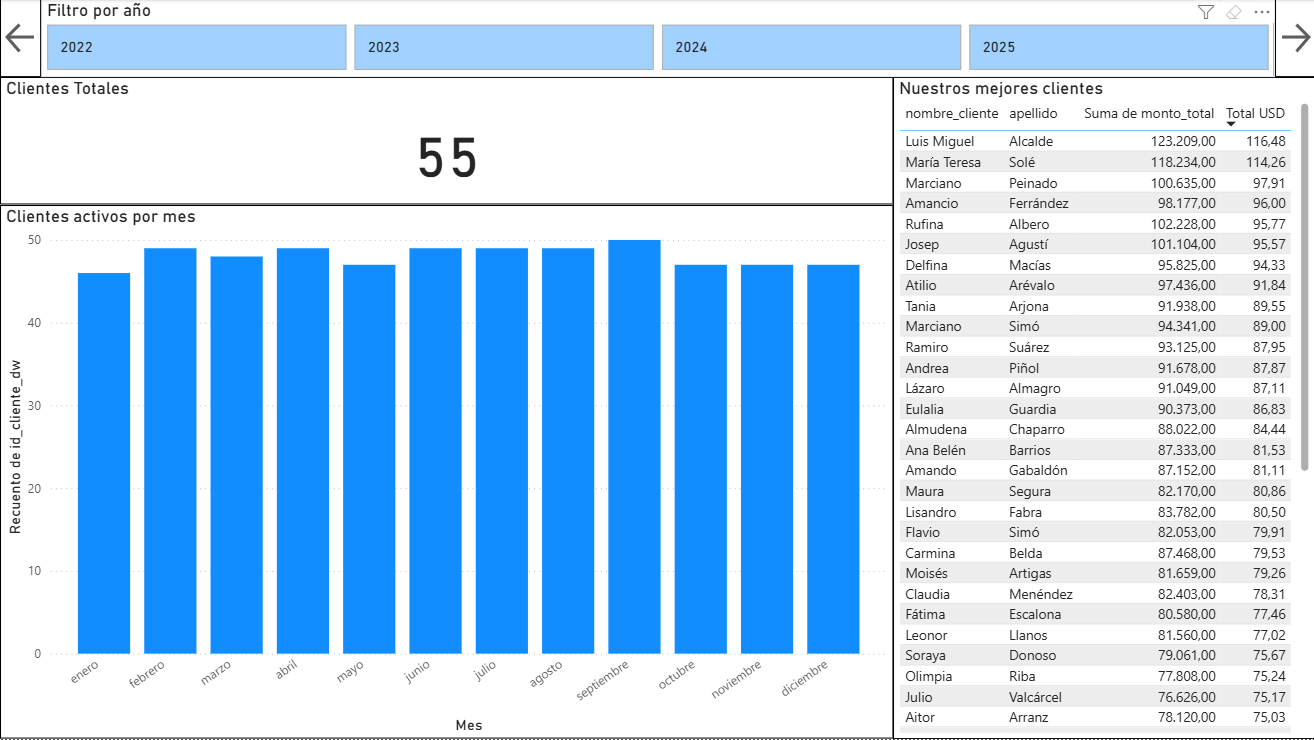

What the dashboard file says about the page in this screenshot:
{"tool":"powerbi","page":{"name":"Clientes","canvas":[1280,720],"ordinal":1},"visuals":[{"type":"card","title":"Clientes Totales","fields":{"Values":["CountNonNull(Dim_Clientes.id_cliente_dw)"]},"box":[0,75.9,868.6,124.5],"z":0},{"type":"columnChart","title":"Clientes activos por mes","fields":{"Category":["Dim_Tiempo.id_fecha.Variación.Jerarquía de fechas.Mes"],"Y":["Count(Hechos_FactVentas.id_cliente_dw)"]},"box":[0,200.4,868.6,519.4],"z":1000},{"type":"tableEx","title":"Nuestros mejores clientes","fields":{"Values":["Dim_Clientes.nombre_cliente","Dim_Clientes.apellido","Sum(Hechos_FactVentas.monto_total)","Medidas.Total USD"]},"box":[868.6,75.9,411.4,643.9],"z":2000},{"type":"advancedSlicerVisual","title":"Filtro por año","fields":{"Values":["Dim_Tiempo.anio"]},"box":[39.9,0,1200.2,75.9],"z":3000},{"type":"actionButton","box":[0,0,39.9,75.9],"z":4000},{"type":"actionButton","box":[1240.1,0,39.9,75.9],"z":5000}]}

Visuals, with their boxes in screenshot pixels (x1, y1, x2, y2), scaled from the page's 1280x720 canvas onto the 1314x740 screenshot:
"Clientes Totales" card: l=0, t=78, r=892, b=206
"Clientes activos por mes" columnChart: l=0, t=206, r=892, b=739
"Nuestros mejores clientes" tableEx: l=892, t=78, r=1313, b=739
"Filtro por año" advancedSlicerVisual: l=41, t=0, r=1273, b=78
actionButton: l=0, t=0, r=41, b=78
actionButton: l=1273, t=0, r=1313, b=78
